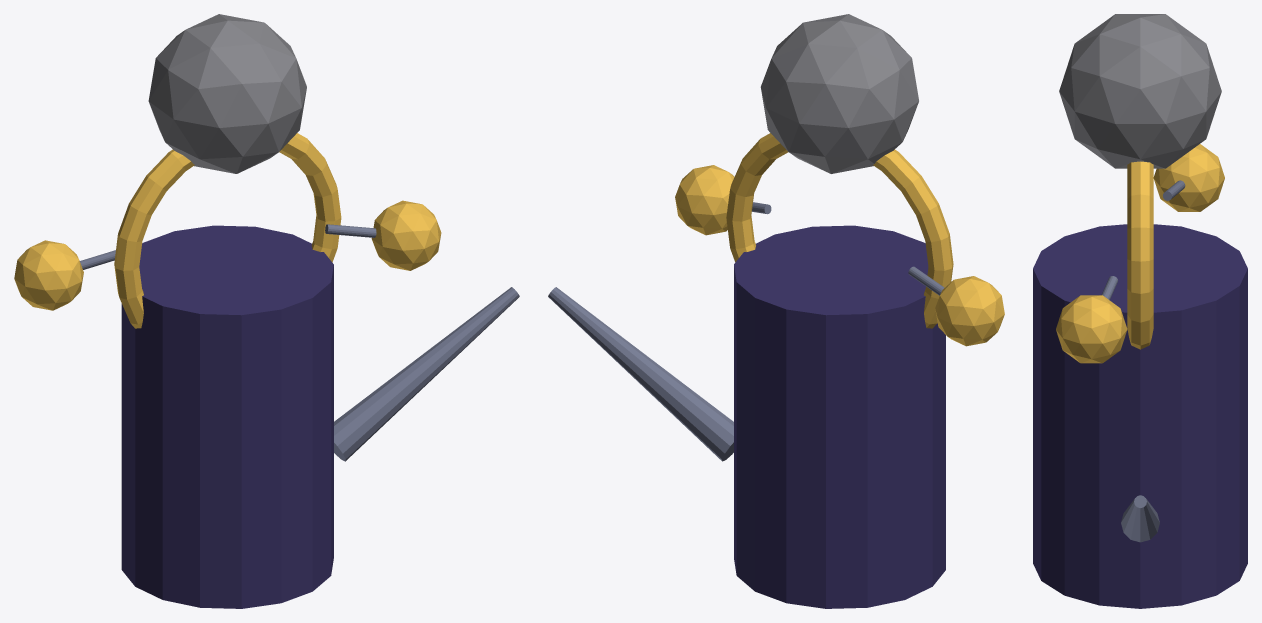
Rendered from lantern-tyrant.glb.
3 views of the same model, side by side, from view 1: azimuth 30°, elevation 25°; view 2: azimuth 150°, elevation 25°; view 3: azimuth 270°, elevation 25° (orthographic).
Visible parts, largest first — view 1: tyrant-torso, tyrant-head, tyrant-gate-collar, tyrant-hook-arm, tyrant-lantern-0, tyrant-lantern-1; view 2: tyrant-torso, tyrant-head, tyrant-gate-collar, tyrant-hook-arm, tyrant-lantern-0, tyrant-lantern-1; view 3: tyrant-torso, tyrant-head, tyrant-gate-collar, tyrant-lantern-1, tyrant-lantern-0, tyrant-hook-arm.
Boxes of the visible parts, box(x1,y1,x2,y2) form: tyrant-torso: box(121, 225, 333, 608); tyrant-head: box(148, 14, 306, 173); tyrant-gate-collar: box(114, 133, 341, 328); tyrant-hook-arm: box(334, 287, 519, 461); tyrant-lantern-0: box(14, 240, 83, 310); tyrant-lantern-1: box(371, 200, 441, 270); tyrant-torso: box(734, 225, 945, 608); tyrant-head: box(760, 14, 918, 173); tyrant-gate-collar: box(726, 133, 953, 328); tyrant-hook-arm: box(548, 287, 733, 461); tyrant-lantern-0: box(935, 276, 1004, 346); tyrant-lantern-1: box(675, 165, 734, 235); tyrant-torso: box(1033, 224, 1247, 608); tyrant-head: box(1059, 14, 1221, 168); tyrant-gate-collar: box(1127, 161, 1153, 349); tyrant-lantern-1: box(1056, 295, 1127, 363); tyrant-lantern-0: box(1153, 144, 1224, 211); tyrant-hook-arm: box(1121, 495, 1159, 542).
Bounding box in the file's own units: 1.69 × 1.85 × 0.66.
